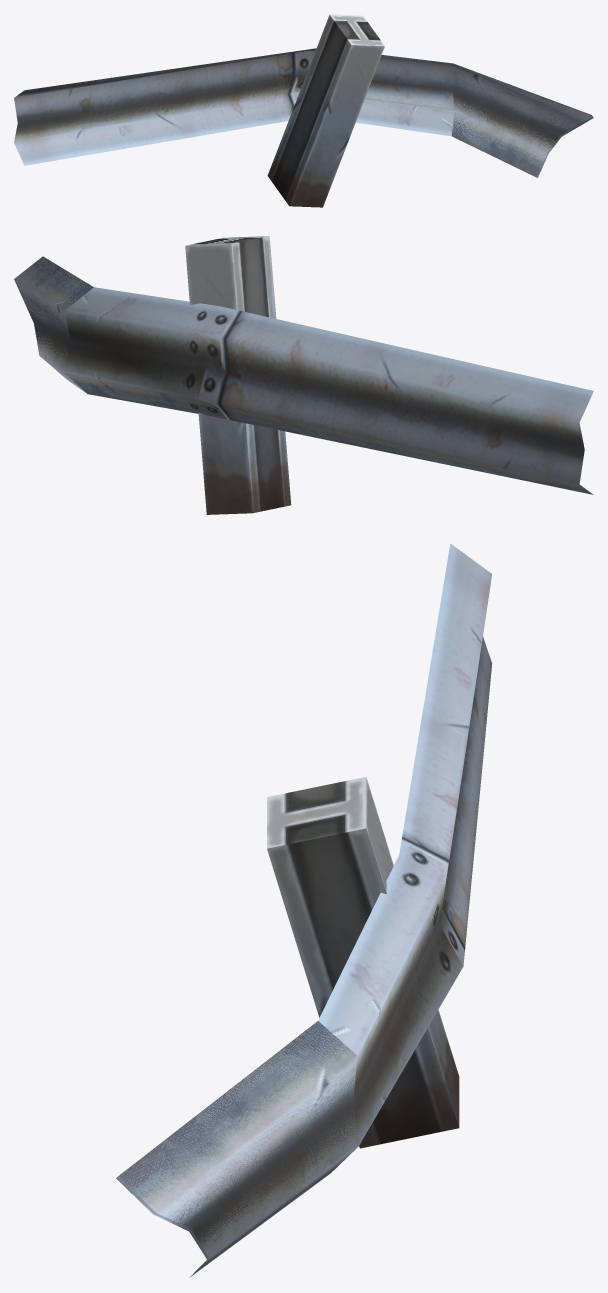
File: guardRail_3m_C.fbx
The picture shows the model from 3 angles, top to bottom: view 1: azimuth 30°, elevation 25°; view 2: azimuth 150°, elevation 25°; view 3: azimuth 270°, elevation 25°; orthographic projection. The views are drawn at different scales.
Visible parts, largest first — view 1: guardRail_3m_C; view 2: guardRail_3m_C; view 3: guardRail_3m_C.
Part boxes in pixels (bbox=[...]): guardRail_3m_C: bbox=[14, 14, 593, 207]; guardRail_3m_C: bbox=[14, 236, 593, 514]; guardRail_3m_C: bbox=[116, 543, 492, 1277].
Size of the model in its own units: 262 by 95.91 by 86.12.
